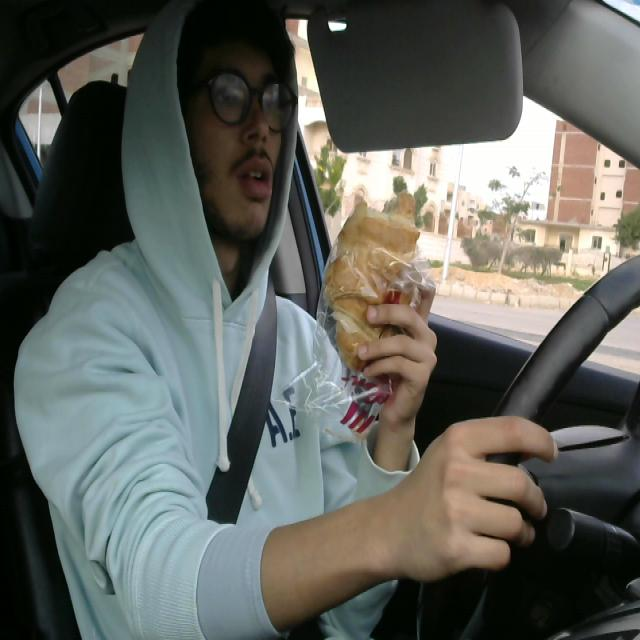eating: (323, 178, 423, 370)
